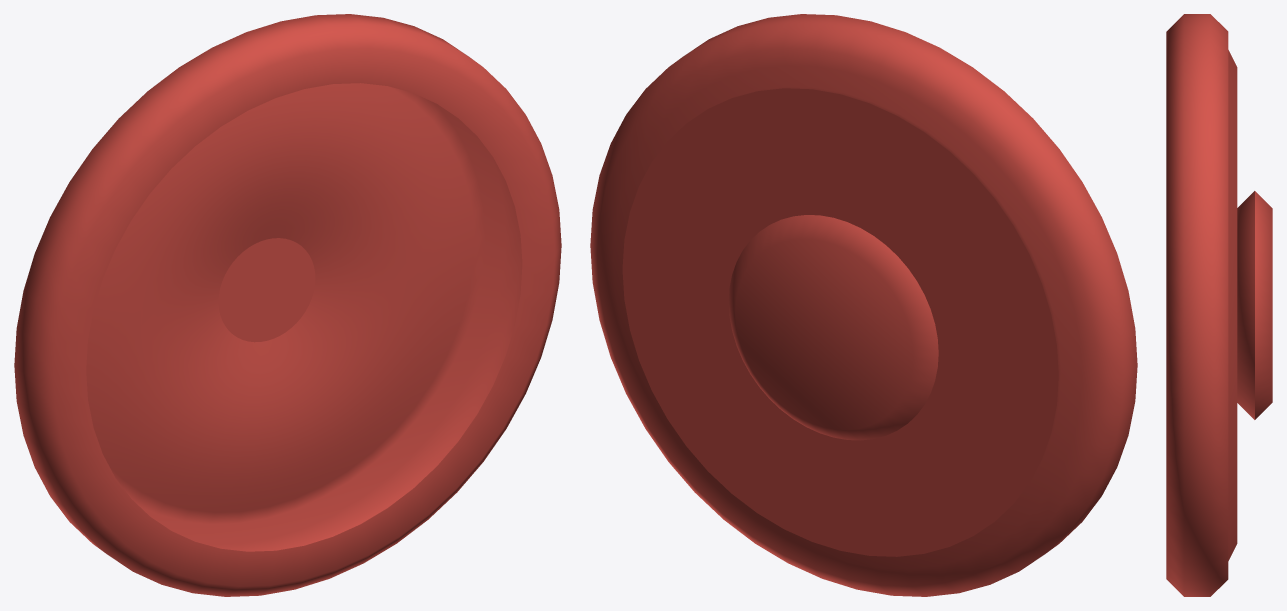
File: plate.obj
3 renders of one model, left to right at view 1: azimuth 30°, elevation 25°; view 2: azimuth 150°, elevation 25°; view 3: azimuth 270°, elevation 25°, orthographic. The views are drawn at different scales.
Size of the model in its own units: 0.132 by 0.132 by 0.024.
